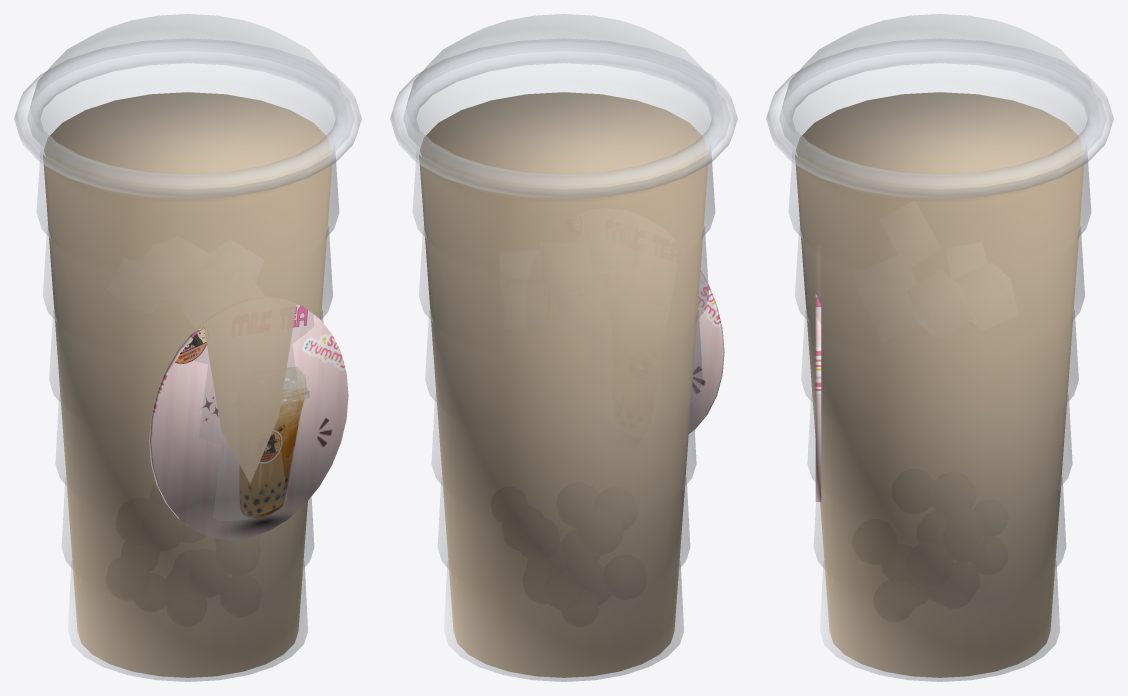
The model's file is prop_milk_tea.glb.
The picture shows the model from 3 angles, left to right: view 1: azimuth 30°, elevation 25°; view 2: azimuth 150°, elevation 25°; view 3: azimuth 270°, elevation 25°; orthographic projection.
Parts seen in each view (by area): view 1: prop_milk_tea; view 2: prop_milk_tea; view 3: prop_milk_tea.
Boxes of the visible parts, left/top/right/bottom form: prop_milk_tea: left=14, top=14, right=361, bottom=681; prop_milk_tea: left=390, top=14, right=737, bottom=681; prop_milk_tea: left=766, top=14, right=1113, bottom=681.
Bounding box in the file's own units: 0.0927 × 0.1742 × 0.0927.
5 materials, 1 textured.
